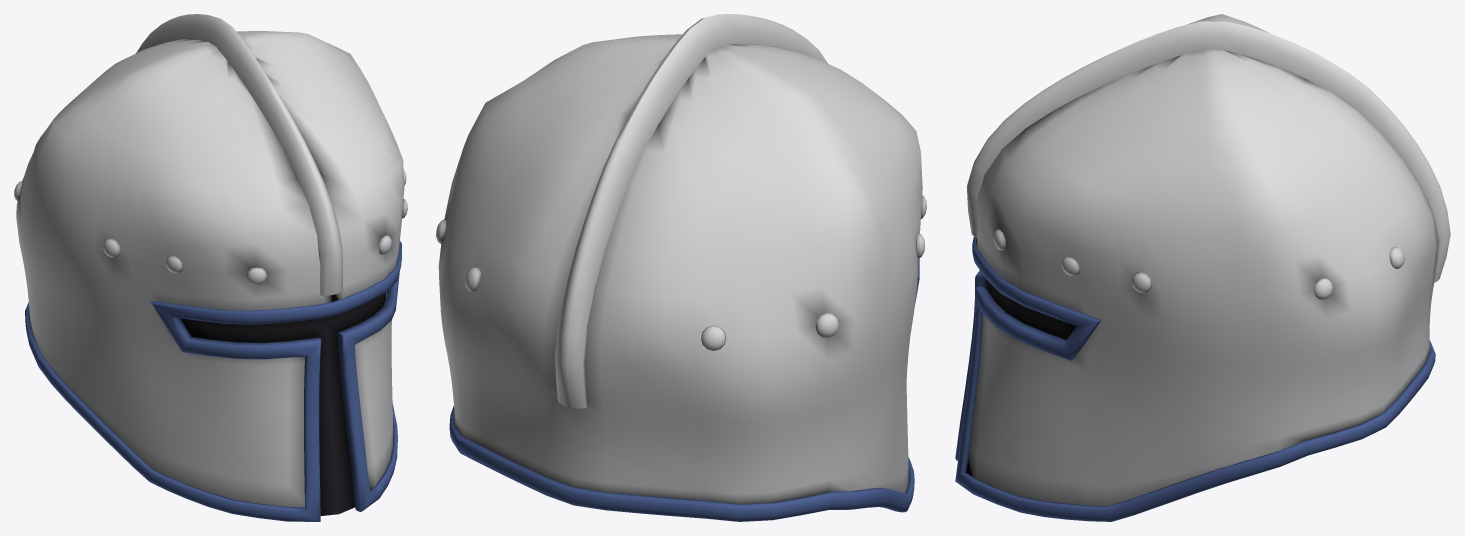
Rendered from footman_helmet.glb.
The picture shows the model from 3 angles, left to right: view 1: azimuth 30°, elevation 25°; view 2: azimuth 150°, elevation 25°; view 3: azimuth 270°, elevation 25°; orthographic projection. The views are drawn at different scales.
Visible parts, largest first — view 1: FootmanHelmetSilver, FootmanHelmetBlue, FootmanHelmetDark; view 2: FootmanHelmetSilver, FootmanHelmetBlue; view 3: FootmanHelmetSilver, FootmanHelmetBlue, FootmanHelmetDark.
Part boxes in pixels (<box>): FootmanHelmetSilver: <box>14,14,407,507</box>; FootmanHelmetBlue: <box>25,241,401,521</box>; FootmanHelmetDark: <box>180,292,386,515</box>; FootmanHelmetSilver: <box>436,14,926,504</box>; FootmanHelmetBlue: <box>449,258,919,521</box>; FootmanHelmetSilver: <box>966,14,1450,505</box>; FootmanHelmetBlue: <box>955,237,1435,521</box>; FootmanHelmetDark: <box>985,278,1076,339</box>.
Size of the model in its own units: 0.2129 by 0.2525 by 0.2519.
